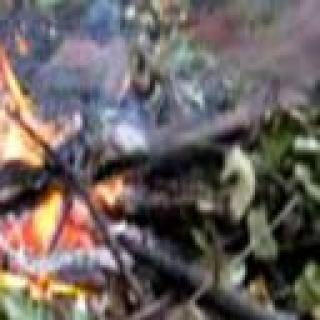fire: (0, 24, 115, 313)
